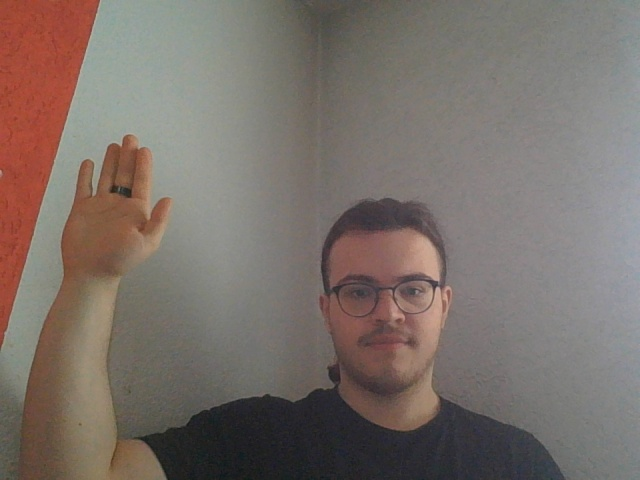Hello: (59, 132, 174, 279)
